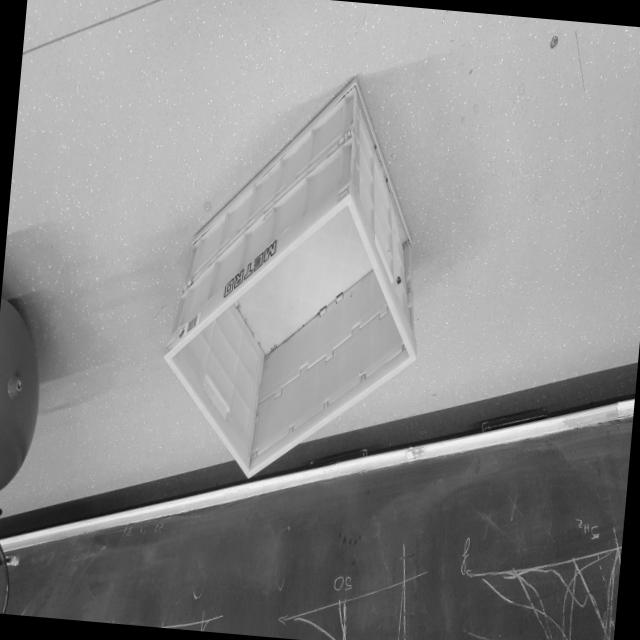box: (150, 48, 446, 506)
